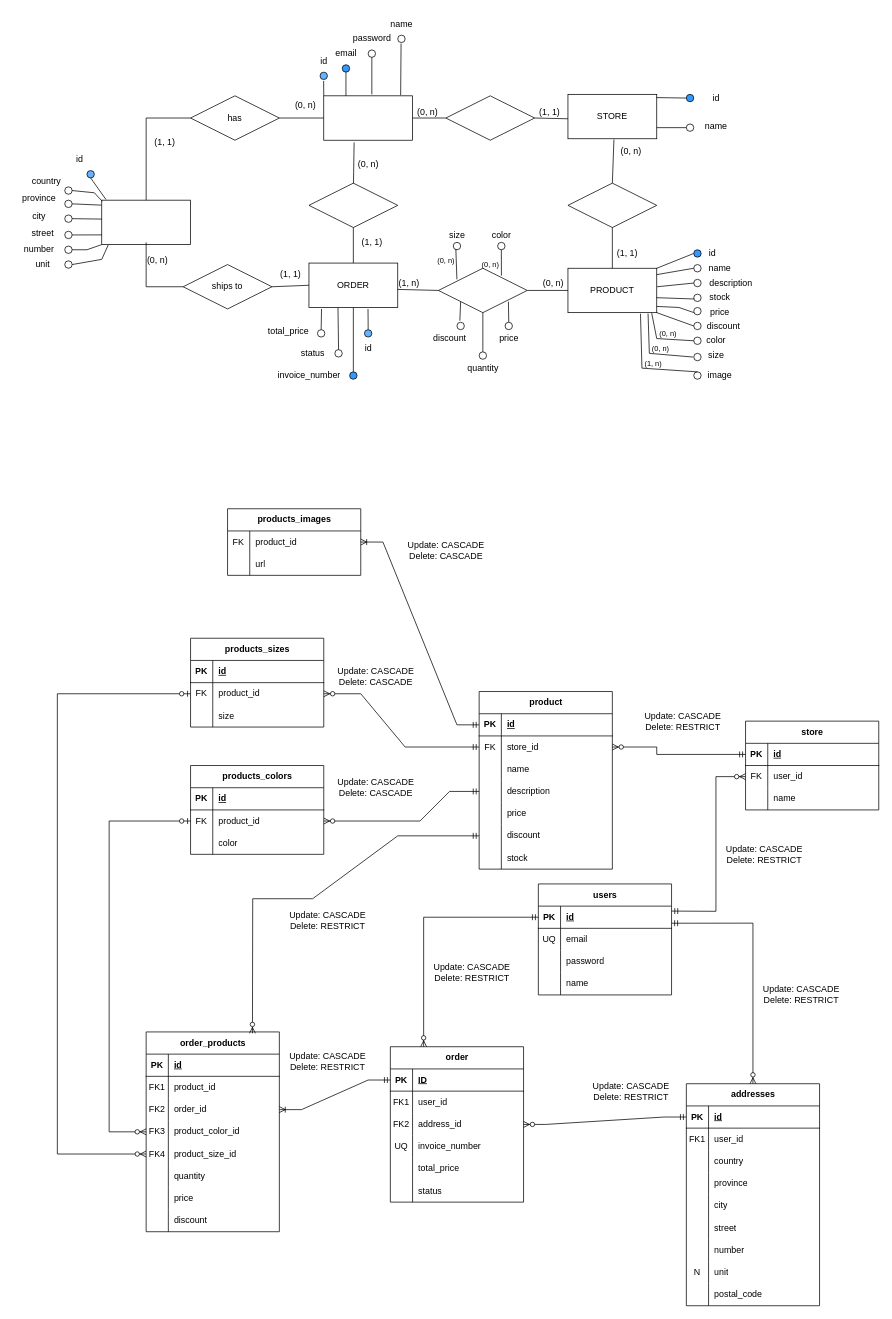
The diagram is 892 pixels wide and 1319 high, and some of its shapes have lost their labels. The centre of each missing label's shape, as x and y in pixels:
"ADDRESS" goes at point (146, 222).
"create" goes at point (490, 117).
"include" goes at point (482, 290).
"makes" goes at point (353, 205).
"sells" goes at point (612, 205).
"USER" goes at point (368, 117).
